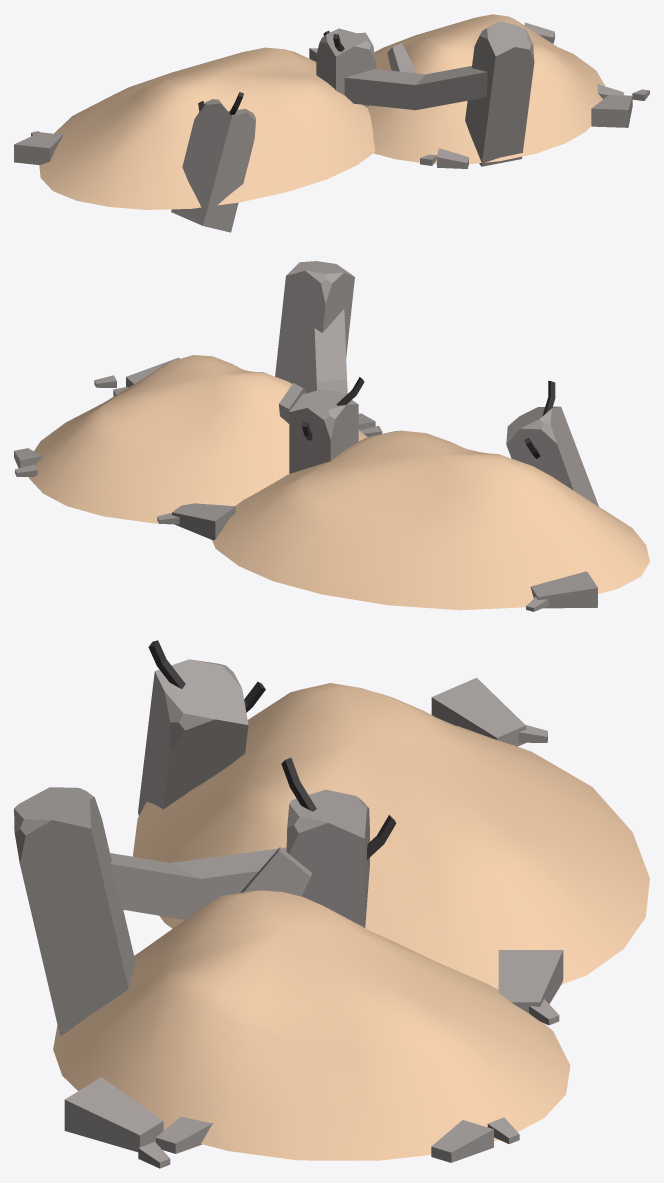
Rendered from Obstacle_4.fbx.
3 views of the same model, one above another, from view 1: azimuth 30°, elevation 25°; view 2: azimuth 150°, elevation 25°; view 3: azimuth 270°, elevation 25° (orthographic). The views are drawn at different scales.
Visible parts, largest first — view 1: Obstacle_4; view 2: Obstacle_4; view 3: Obstacle_4.
Part boxes in pixels (x1,y1,x2,y2): Obstacle_4: (14, 14, 649, 232); Obstacle_4: (14, 261, 649, 611); Obstacle_4: (14, 640, 649, 1168).
Size of the model in its own units: 638 by 184 by 370.
